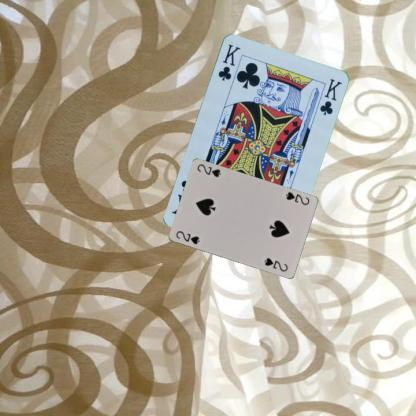2s: (283, 189, 310, 207), (174, 228, 200, 246)
Kc: (216, 41, 242, 82)
